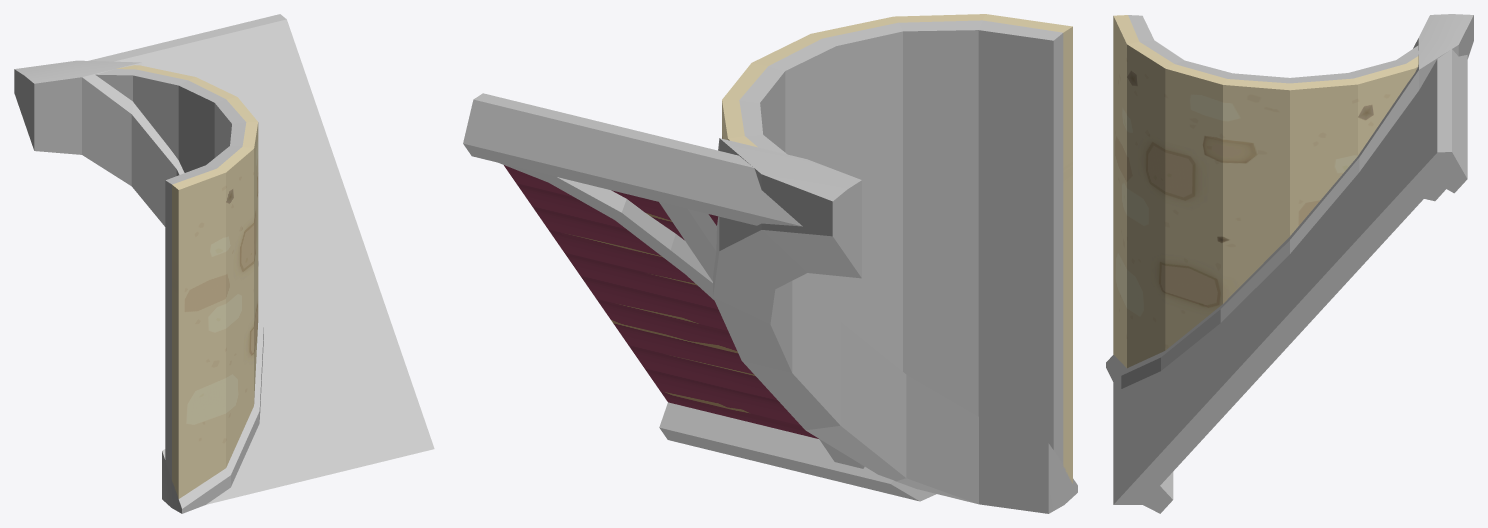
File: SM_Bld_Roof_Straight_Tower_01.fbx
3 renders of one model, left to right at view 1: azimuth 30°, elevation 25°; view 2: azimuth 150°, elevation 25°; view 3: azimuth 270°, elevation 25°, orthographic. The views are drawn at different scales.
Visible parts, largest first — view 1: SM_Bld_Roof_Straight_Tower_01; view 2: SM_Bld_Roof_Straight_Tower_01; view 3: SM_Bld_Roof_Straight_Tower_01.
Part boxes in pixels (x1,y1,x2,y2): SM_Bld_Roof_Straight_Tower_01: (14,14,434,513); SM_Bld_Roof_Straight_Tower_01: (463,14,1077,513); SM_Bld_Roof_Straight_Tower_01: (1106,14,1473,513).
Size of the model in its own units: 251 by 309 by 284.
